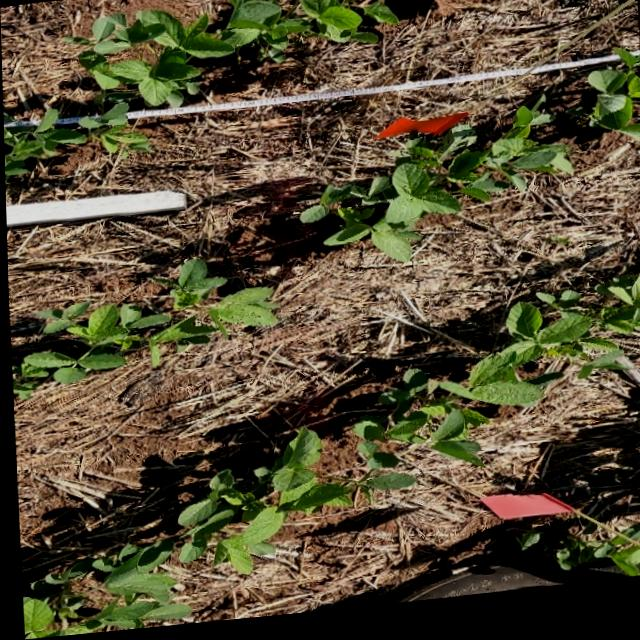soy_plant: (19, 286, 640, 640), (3, 0, 397, 175), (298, 112, 571, 268), (14, 292, 271, 389), (512, 539, 640, 589), (586, 61, 640, 152), (207, 292, 275, 329), (171, 264, 218, 312), (606, 558, 640, 589), (618, 537, 639, 550)
